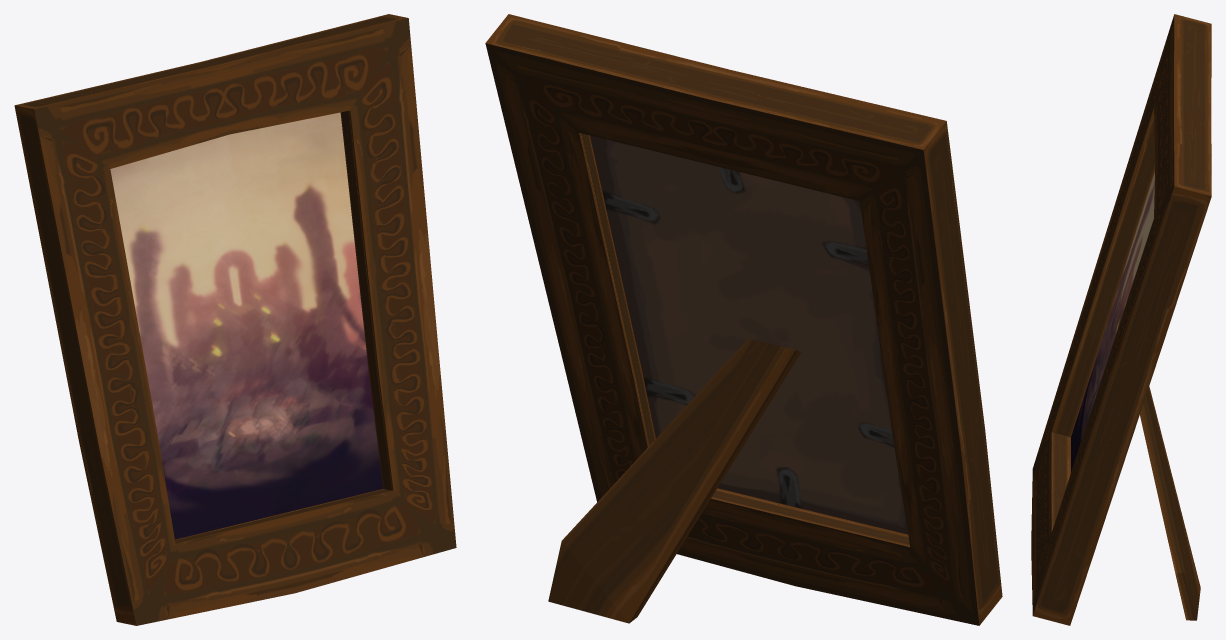
The model's file is SM_PROP_painting_interior_09.fbx.
The picture shows the model from 3 angles, left to right: view 1: azimuth 30°, elevation 25°; view 2: azimuth 150°, elevation 25°; view 3: azimuth 270°, elevation 25°; orthographic projection. The views are drawn at different scales.
Visible parts, largest first — view 1: SM_PROP_painting_interior_09; view 2: SM_PROP_painting_interior_09; view 3: SM_PROP_painting_interior_09.
Part boxes in pixels (box(x1,y1,x2,y2)): SM_PROP_painting_interior_09: box(14, 14, 456, 625); SM_PROP_painting_interior_09: box(485, 14, 1002, 625); SM_PROP_painting_interior_09: box(1031, 14, 1211, 625).
Bounding box in the file's own units: 23.99 × 29.62 × 10.61.
